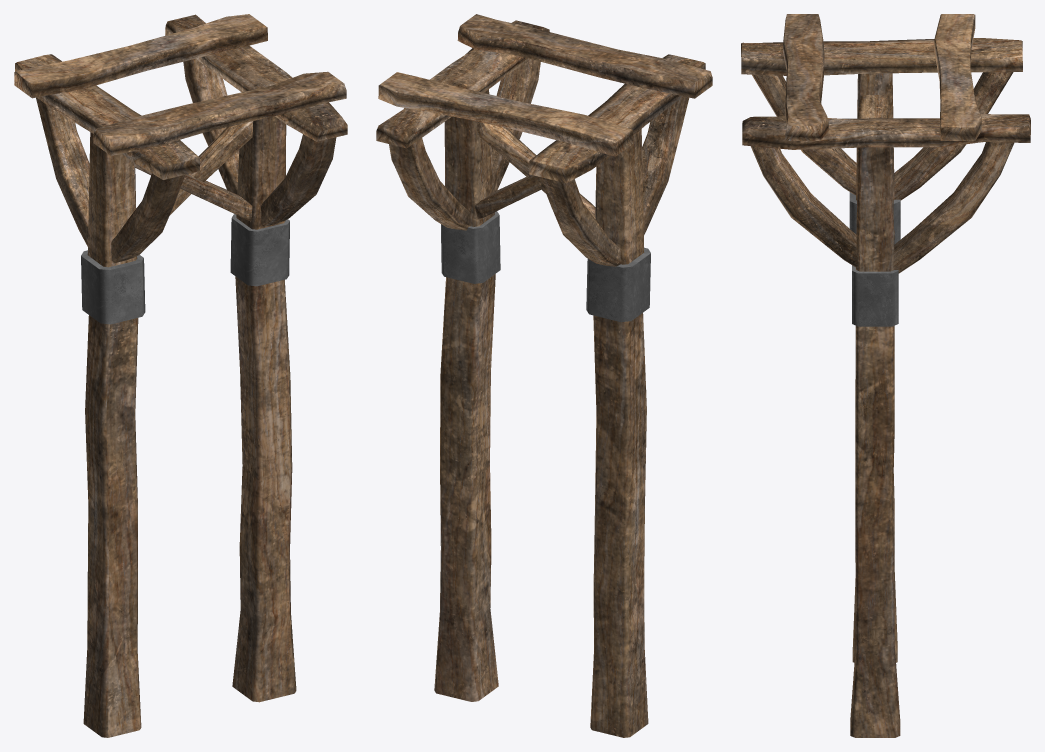
The model's file is Bridge_Founation1.fbx.
The picture shows the model from 3 angles, left to right: view 1: azimuth 30°, elevation 25°; view 2: azimuth 150°, elevation 25°; view 3: azimuth 270°, elevation 25°; orthographic projection. The views are drawn at different scales.
Visible parts, largest first — view 1: Bridge_Founation1; view 2: Bridge_Founation1; view 3: Bridge_Founation1.
Boxes of the visible parts, left/top/right/bottom form: Bridge_Founation1: left=14, top=14, right=347, bottom=737; Bridge_Founation1: left=376, top=14, right=712, bottom=737; Bridge_Founation1: left=741, top=14, right=1030, bottom=737.
Bounding box in the file's own units: 3.91 × 9.96 × 4.23.
Materials: 1 (1 with a texture image).
